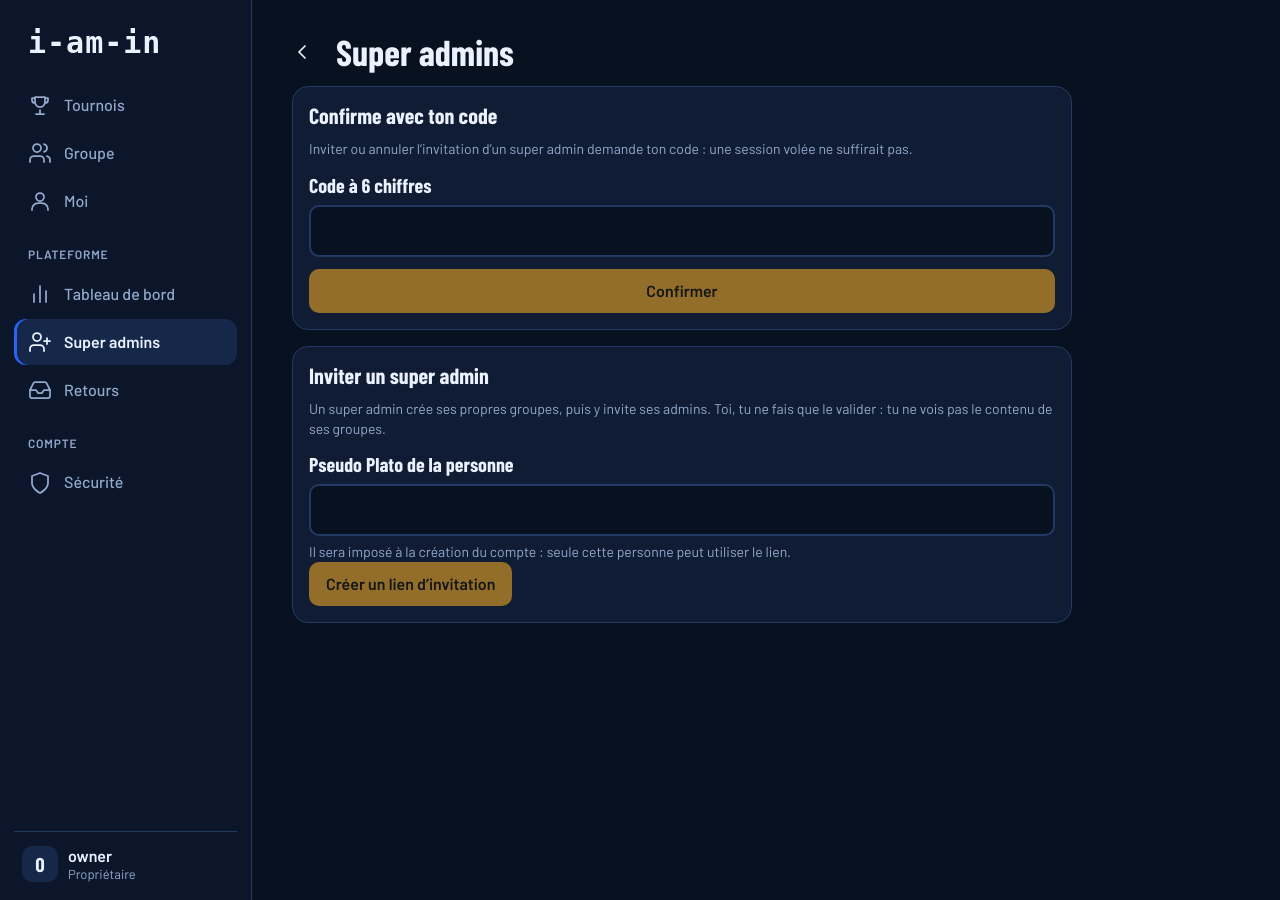
Test: ressaisie du code avant une action sensible › bloque la création d’un lien tant que le code n’est pas redonné
Expected: the button "Créer un lien d’invitation" is disabled, x1=309 y1=562 x2=512 y2=606
In the field labelled "Code à 6 chiffres": (682, 231) x1=309 y1=205 x2=1055 y2=257, type "123456"
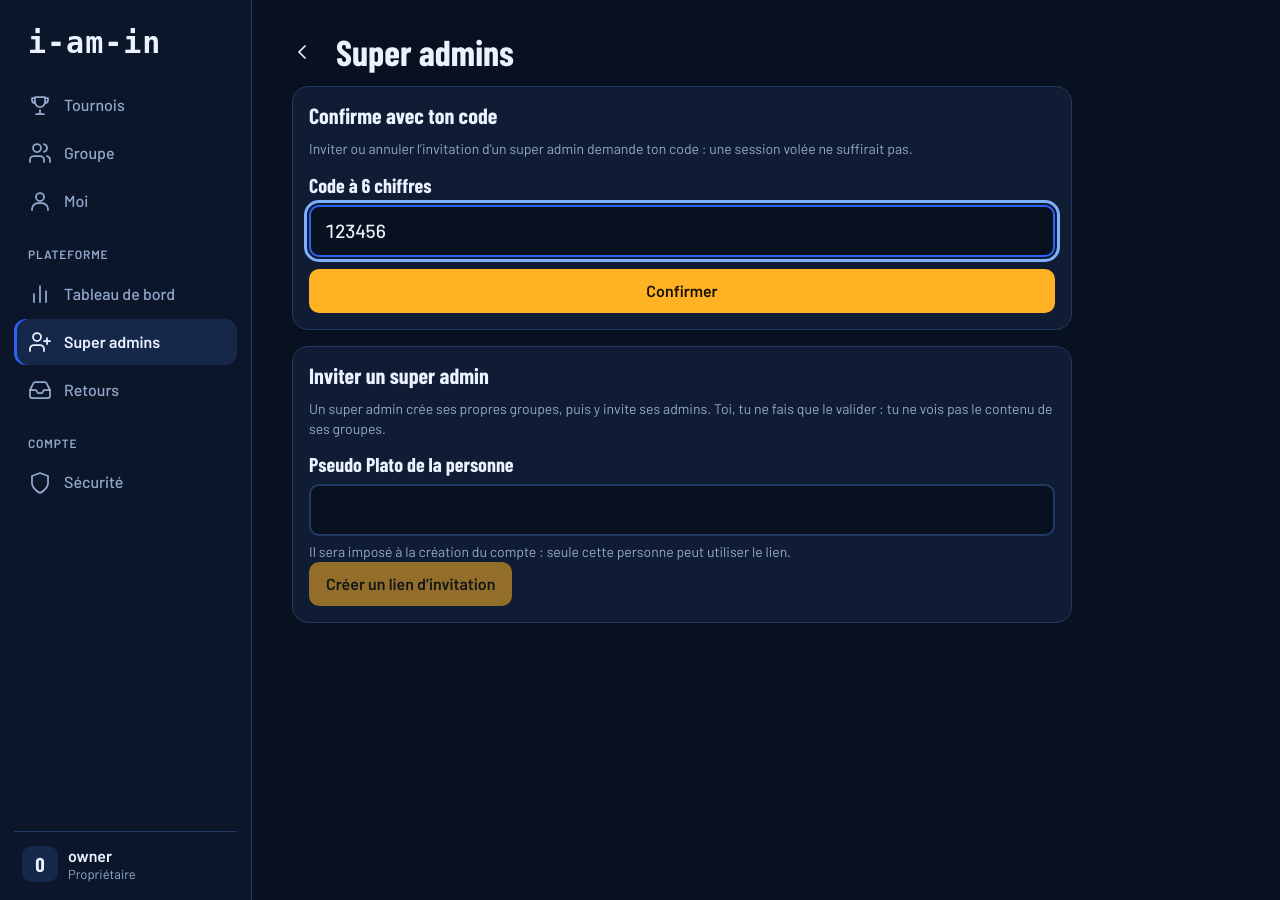
Click the button "Confirmer": (682, 291) x1=309 y1=269 x2=1055 y2=313
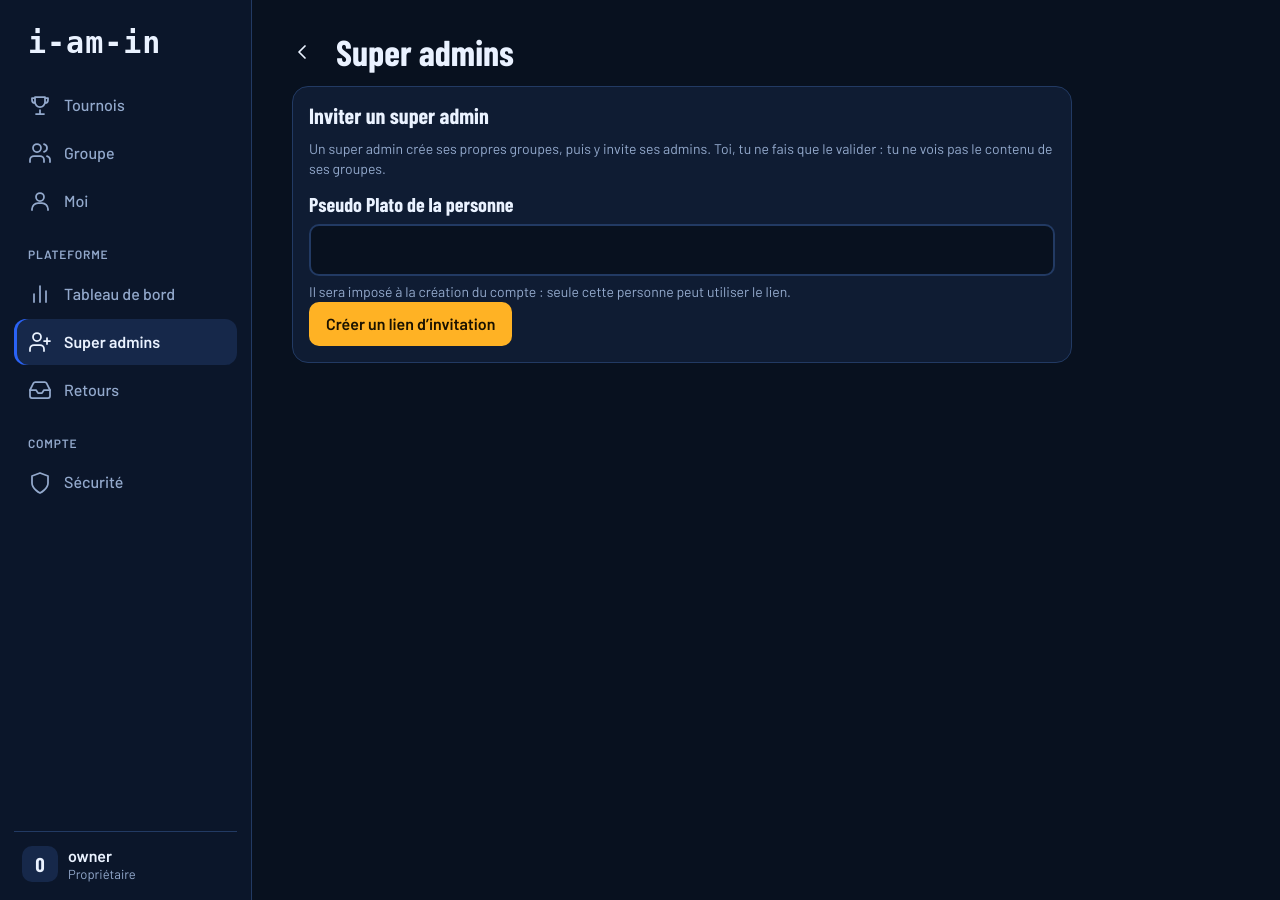
Now the button "Créer un lien d’invitation" is enabled, box x1=309 y1=302 x2=512 y2=346
